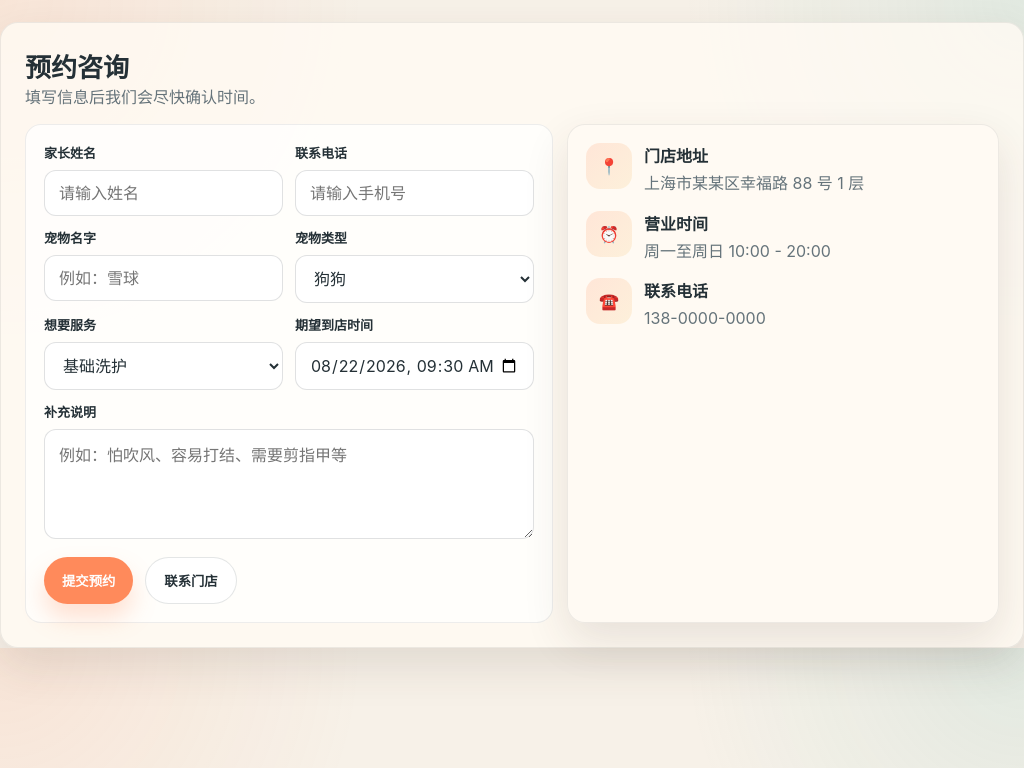
BookingSection › shows the helper error as an alert and preserves entered values
In the field labelled "家长姓名": (164, 193) [44,170,283,216], type "林女士"
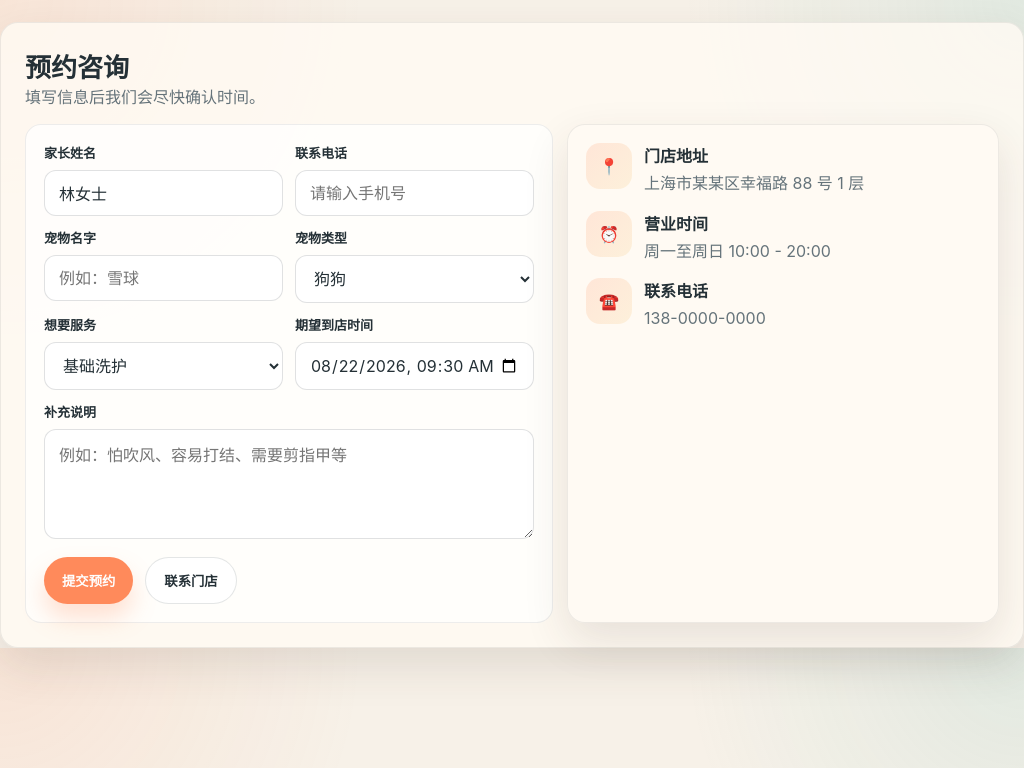
In the field labelled "联系电话": (414, 193) [295,170,534,216], type "123"
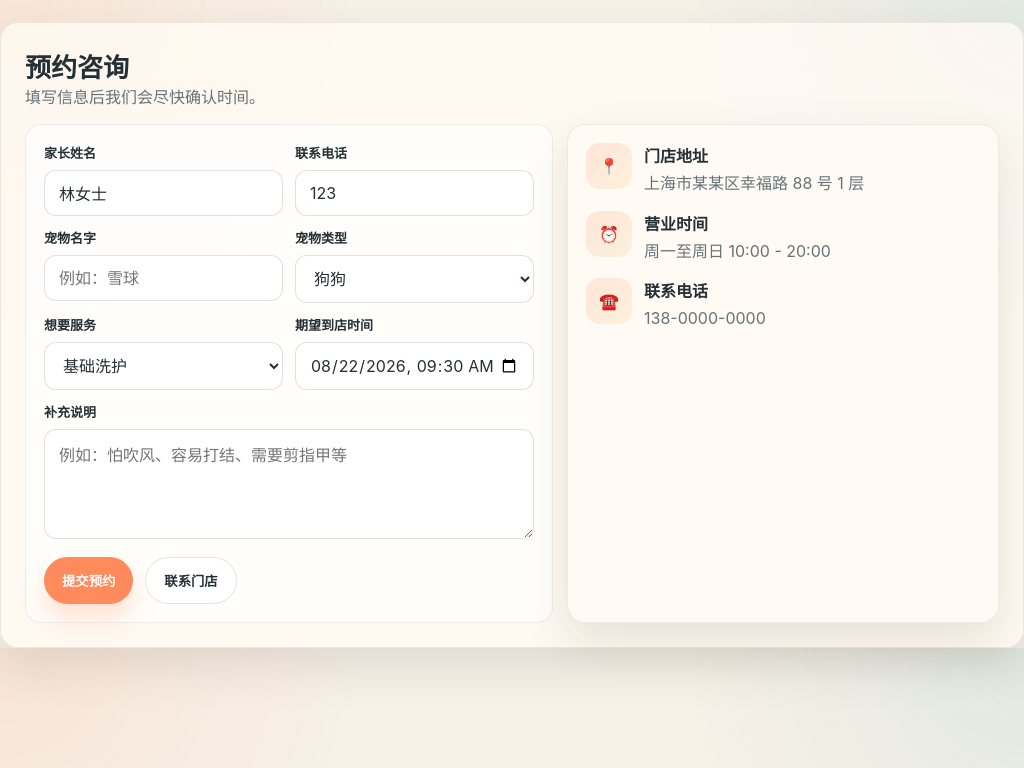
Submit the form "提交预约", box [25,124,553,623]
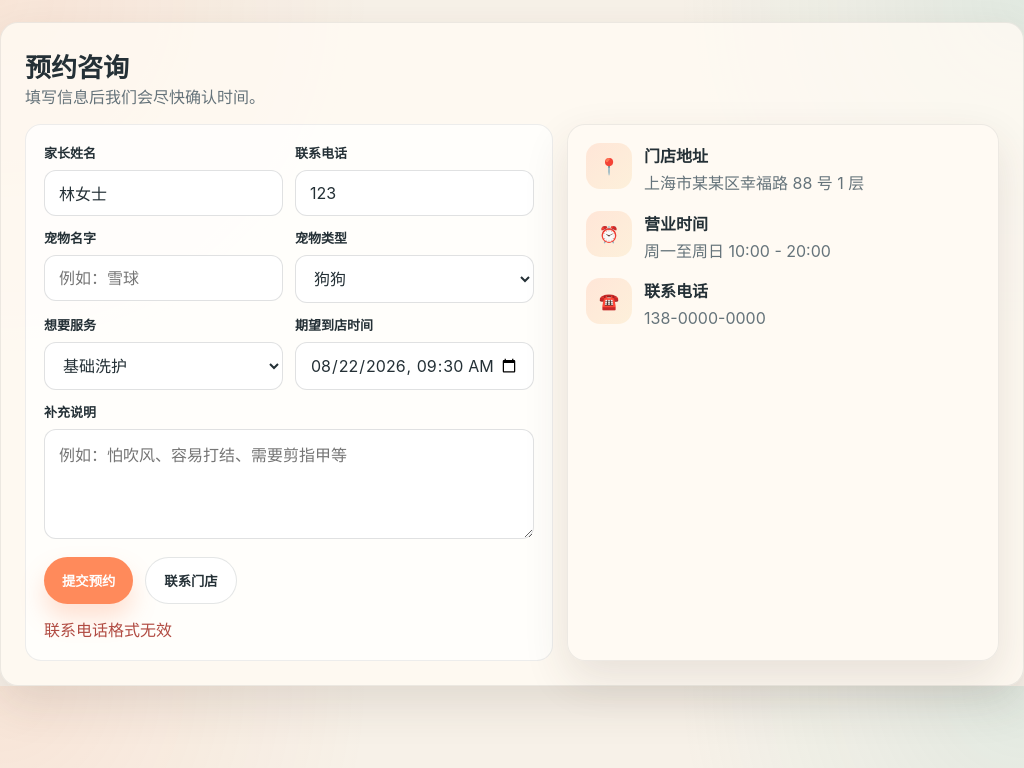
Check: the button "提交预约" is enabled, box [44,557,133,604]
Check: the message reads "联系电话格式无效", box [44,620,172,640]
